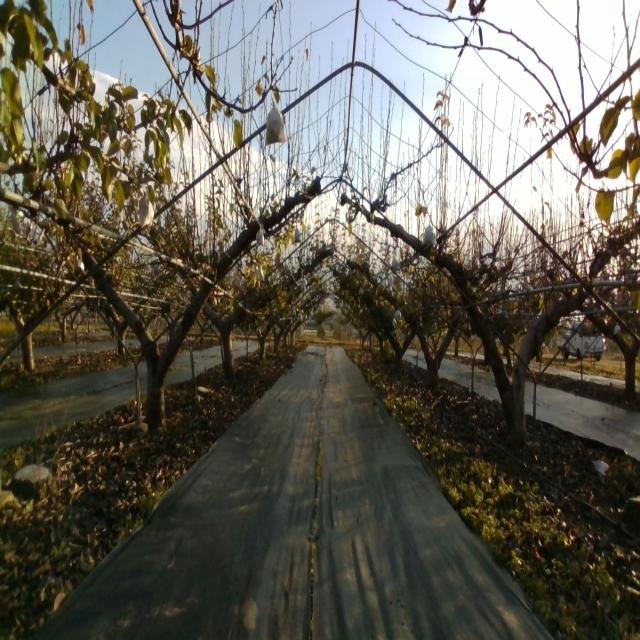pearbags: (264, 98, 286, 146), (138, 196, 154, 229), (421, 224, 437, 246)
